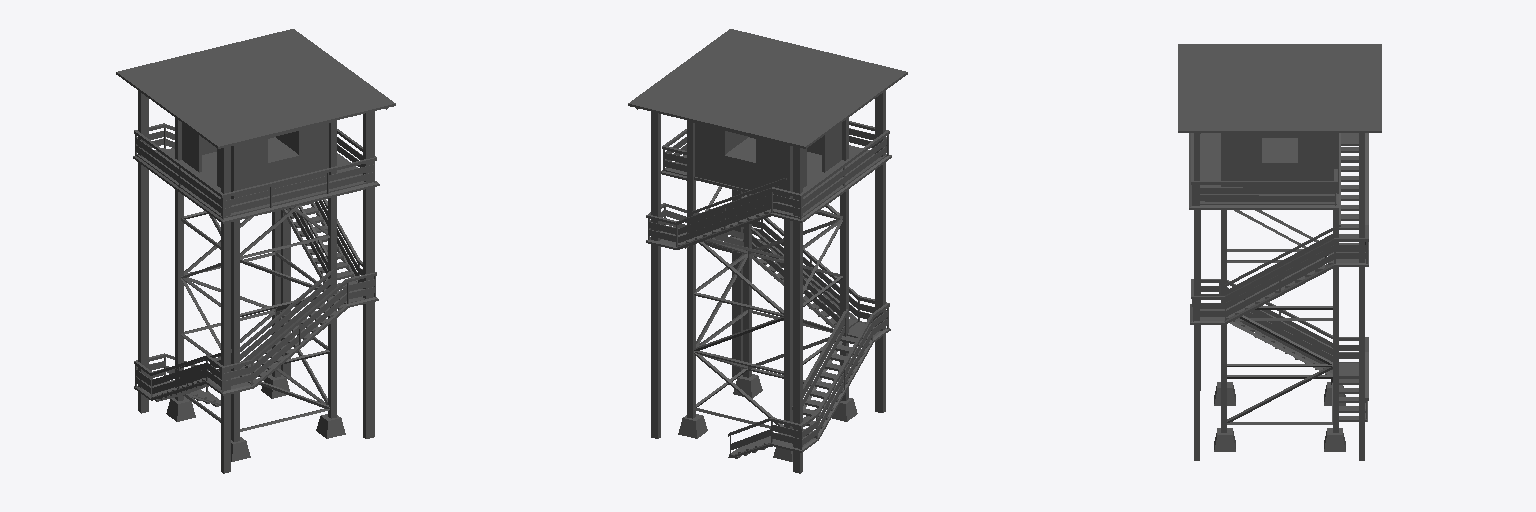
The model's file is Torre.obj.
The picture shows the model from 3 angles: view 1: azimuth 30°, elevation 25°; view 2: azimuth 150°, elevation 25°; view 3: azimuth 270°, elevation 25°; orthographic projection.
Parts seen in each view (by area): view 1: watchtowerHigh_watchtower; view 2: watchtowerHigh_watchtower; view 3: watchtowerHigh_watchtower.
Boxes of the visible parts, box(x1,y1,x2,y2) form: watchtowerHigh_watchtower: box(116, 29, 395, 473); watchtowerHigh_watchtower: box(628, 29, 907, 473); watchtowerHigh_watchtower: box(1178, 44, 1381, 460).
Size of the model in its own units: 13.9 by 25.18 by 13.9.